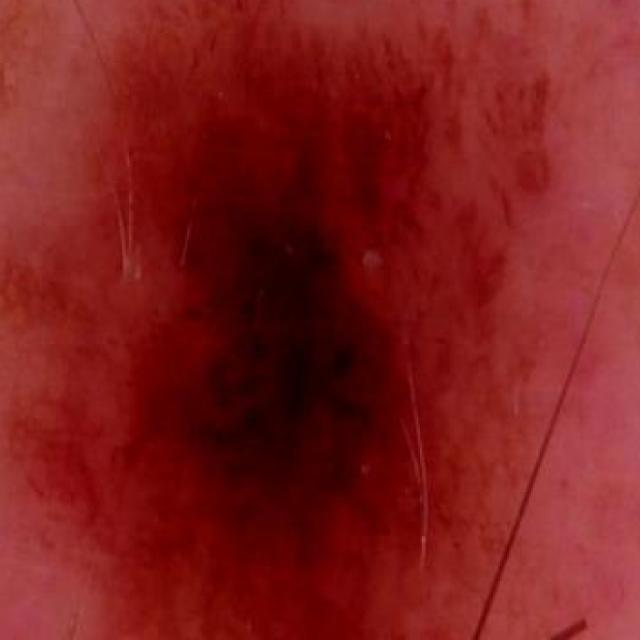NV: (62, 7, 534, 640)
